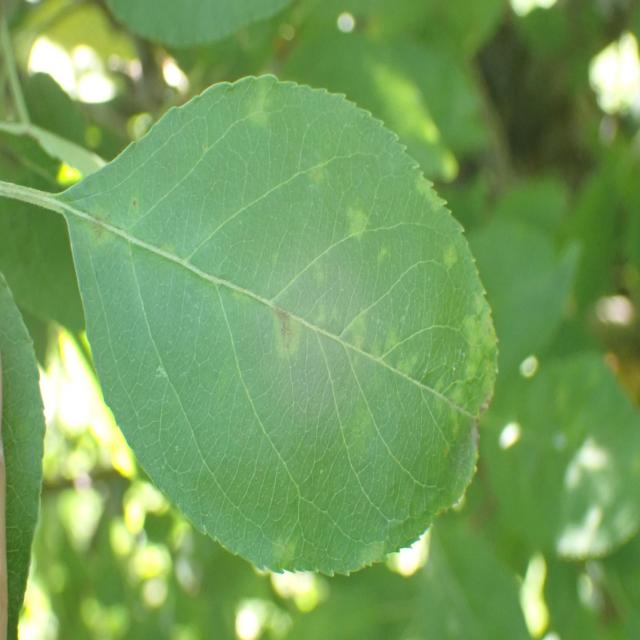scab: (79, 74, 503, 513)
